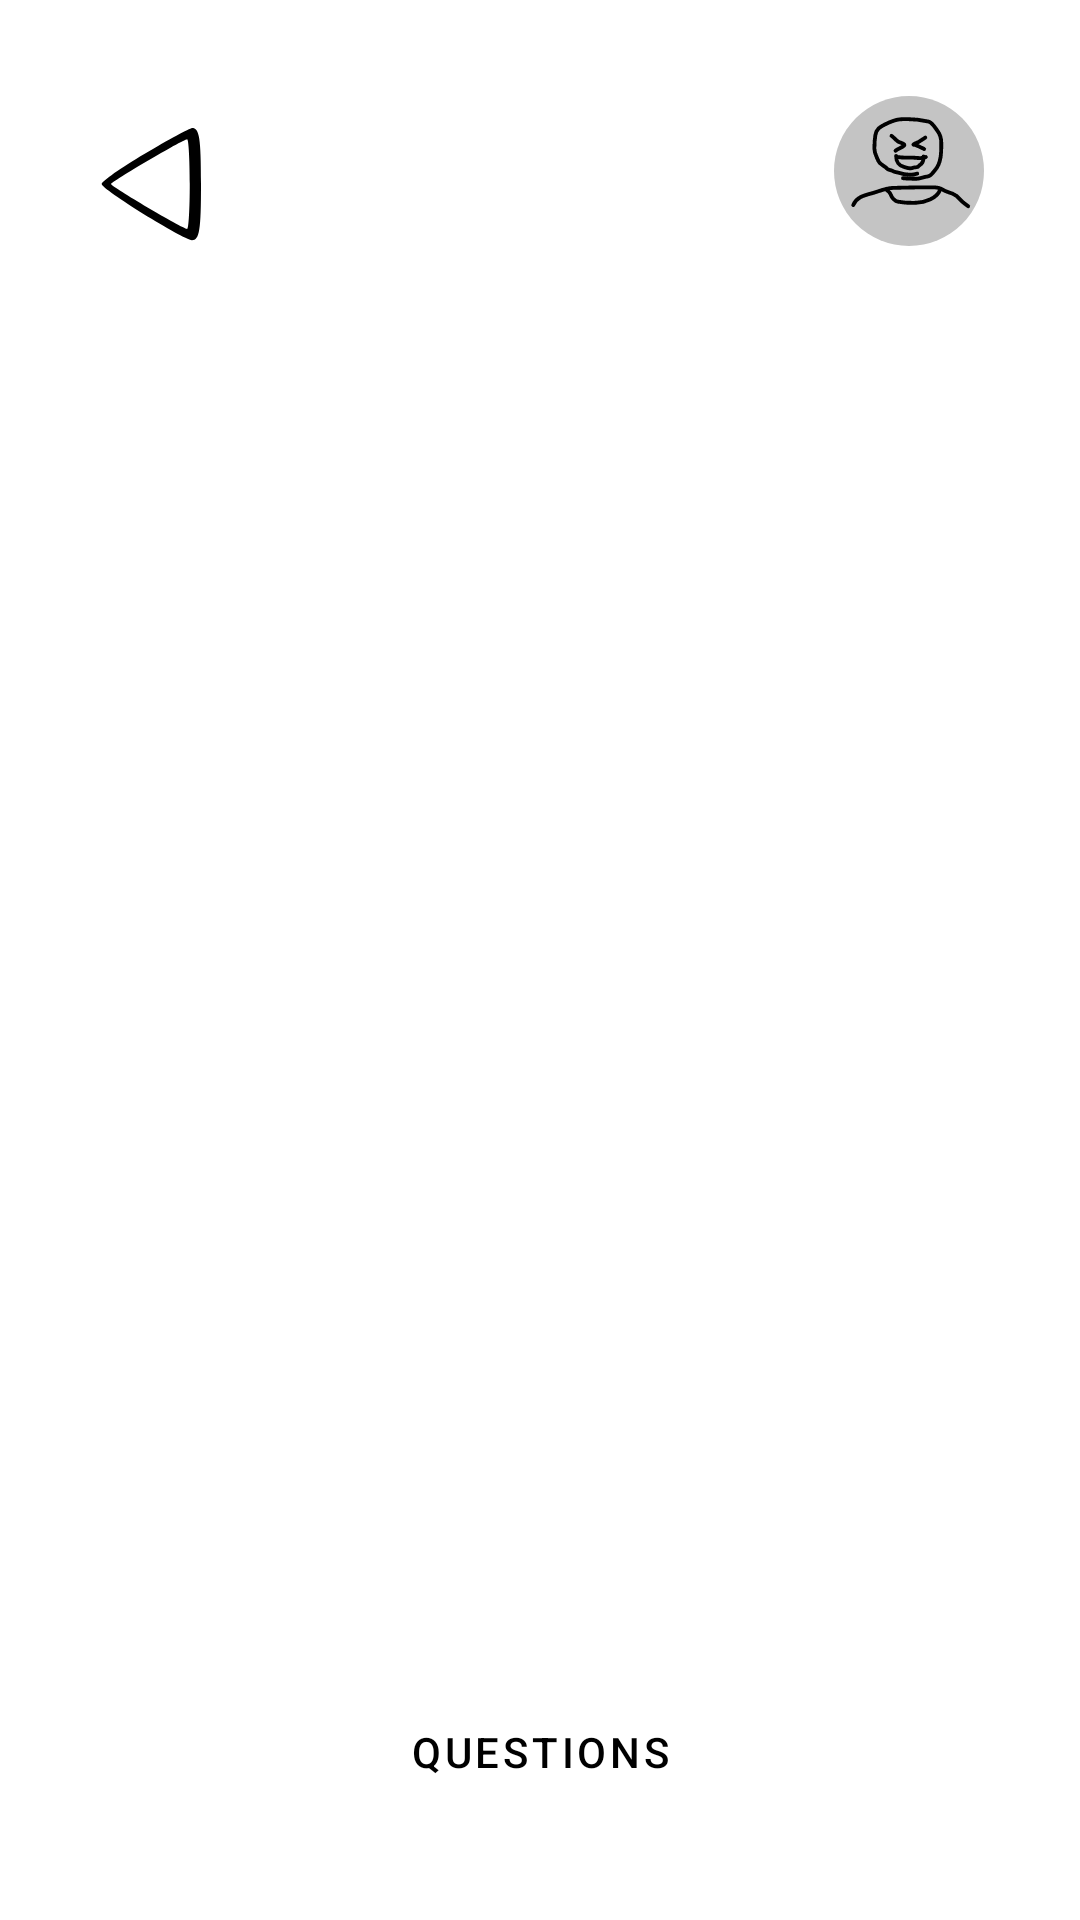

Icons on this 1080*1920 Android screen, each with the point to tap as (x,y):
back: (151,184)
guest: (909,171)
